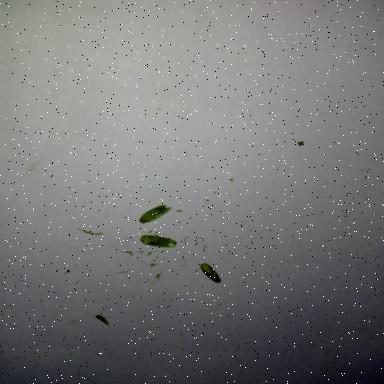pbw: (136, 234, 178, 252), (140, 203, 168, 225), (196, 263, 222, 285)
